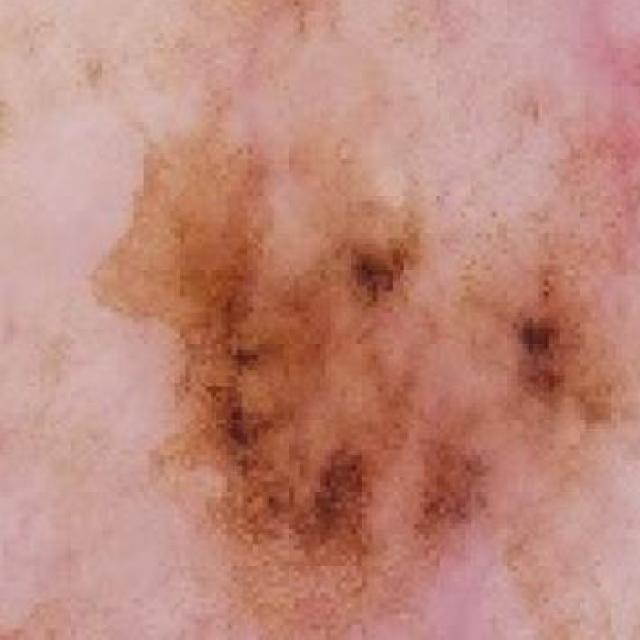MEL: (92, 0, 640, 640)
